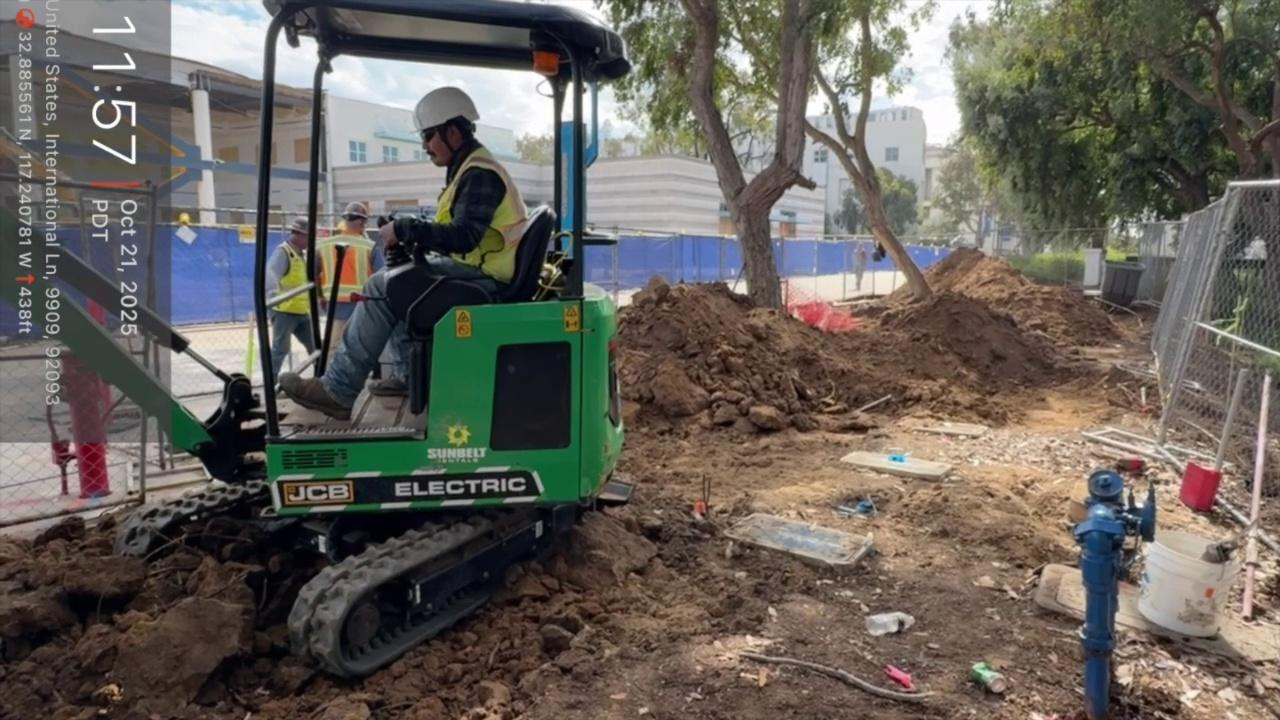Exacavator: (26, 0, 638, 680)
